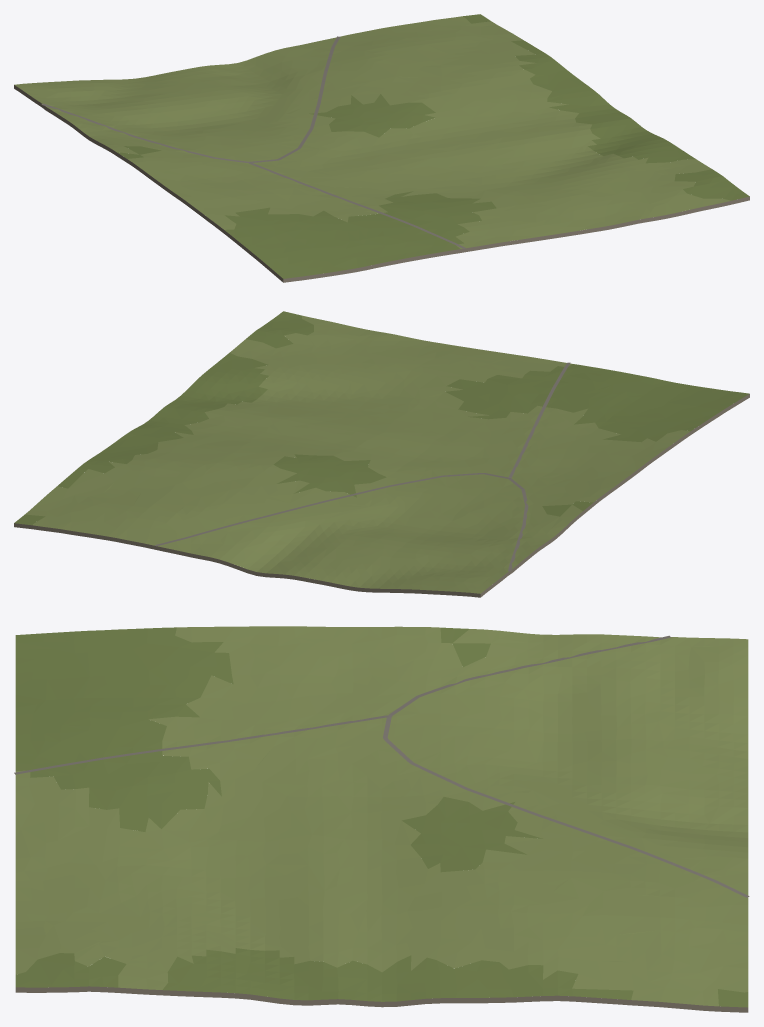
The model's file is parca_+11_-4-uzak.glb.
3 renders of one model, top to bottom at view 1: azimuth 30°, elevation 25°; view 2: azimuth 150°, elevation 25°; view 3: azimuth 270°, elevation 25°, orthographic. The views are drawn at different scales.
Visible parts, largest first — view 1: parca_+11_-4_arazi_uzak, parca_+11_-4_yollar_uzak; view 2: parca_+11_-4_arazi_uzak, parca_+11_-4_yollar_uzak; view 3: parca_+11_-4_arazi_uzak, parca_+11_-4_yollar_uzak.
Part boxes in pixels (box(x1,y1,x2,y2)): parca_+11_-4_arazi_uzak: box(14, 14, 749, 282); parca_+11_-4_yollar_uzak: box(41, 36, 465, 248); parca_+11_-4_arazi_uzak: box(14, 311, 749, 597); parca_+11_-4_yollar_uzak: box(155, 362, 570, 571); parca_+11_-4_arazi_uzak: box(15, 626, 748, 1012); parca_+11_-4_yollar_uzak: box(14, 635, 749, 897).
Size of the model in its own units: 1004 by 116 by 1005.
